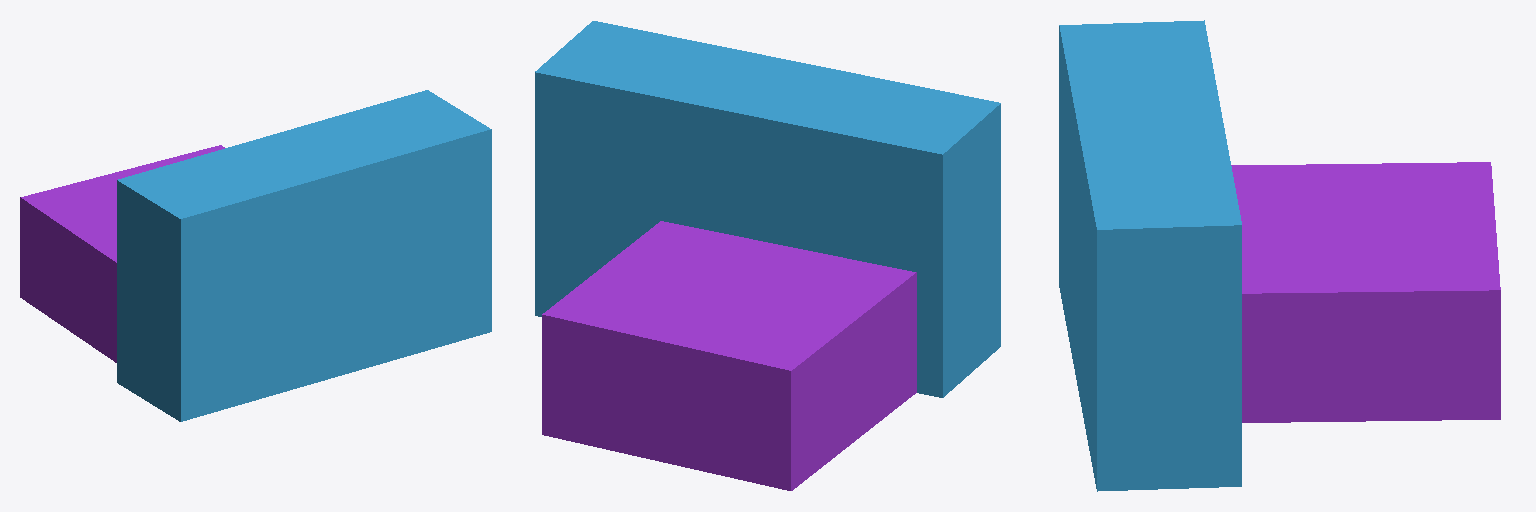
The robot description file, URDF, robot "multi_boxes":
<?xml version="1.0"?>
<robot name="multi_boxes">
  <!-- Note: Platform/ground boxes with large coordinates (-10 or 10) have been filtered out -->
  <link name="world"/>
  <!-- Box 1 -->
  <link name="multi_boxes_link">
    <visual>
      <origin xyz="0 0 0" rpy="0 0 0"/>
      <geometry>
        <mesh filename="box_models/box1.obj" scale="0.7415730337078652 0.7415730337078652 0.7415730337078652"/>
      </geometry>
      <material name="box1_material">
        <color rgba="0.3 0.7 0.9 0.5"/>
      </material>
    </visual>

    <collision name="multi_boxes">
      <origin xyz="0 0 0" rpy="0 0 0"/>
      <geometry>
        <mesh filename="box_models/box1.obj" scale="0.7415730337078652 0.7415730337078652 0.7415730337078652"/>
      </geometry>
    </collision>

    <inertial>
      <origin xyz="0 0 0" rpy="0 0 0"/>
      <mass value="33.33"/>
      <inertia ixx="33.33" ixy="0.0" ixz="0.0" iyy="33.33" iyz="0.0" izz="33.33"/>
    </inertial>
  </link>

  <!-- Box 2 -->
  <link name="box2_link">
    <visual>
      <origin xyz="0 0 0" rpy="0 0 0"/>
      <geometry>
        <mesh filename="box_models/box2.obj" scale="0.7415730337078652 0.7415730337078652 0.7415730337078652"/>
      </geometry>
      <material name="box2_material">
        <color rgba="0.7 0.3 0.9 0.5"/>
      </material>
    </visual>

    <collision name="box2">
      <origin xyz="0 0 0" rpy="0 0 0"/>
      <geometry>
        <mesh filename="box_models/box2.obj" scale="0.7415730337078652 0.7415730337078652 0.7415730337078652"/>
      </geometry>
    </collision>

    <inertial>
      <origin xyz="0 0 0" rpy="0 0 0"/>
      <mass value="33.33"/>
      <inertia ixx="33.33" ixy="0.0" ixz="0.0" iyy="33.33" iyz="0.0" izz="33.33"/>
    </inertial>
  </link>

  <!-- Fixed joint to world for Box 1 -->
  <joint name="world_to_multi_boxes" type="fixed">
    <parent link="world"/>
    <child link="multi_boxes_link"/>
    <origin xyz="0 0 0" rpy="0 0 0"/>
  </joint>

  <!-- Fixed joint to world for Box 2 -->
  <joint name="world_to_box2" type="fixed">
    <parent link="world"/>
    <child link="box2_link"/>
    <origin xyz="0 0 0" rpy="0 0 0"/>
  </joint>

</robot>

--- Facts derived from the render (not from the file) ---
3 views of the same robot in one strip: view 1: azimuth 30°, elevation 25°; view 2: azimuth 150°, elevation 25°; view 3: azimuth 270°, elevation 25° (orthographic).
Model multi_boxes with 3 links and 2 joints (2 fixed), rooted at world, posed every joint at zero.
Visible links, largest first — view 1: multi_boxes_link, box2_link; view 2: multi_boxes_link, box2_link; view 3: multi_boxes_link, box2_link.
Link boxes in pixels (box(x1,y1,x2,y2)): multi_boxes_link: box(117, 90, 491, 421); box2_link: box(20, 145, 224, 362); multi_boxes_link: box(535, 21, 1000, 397); box2_link: box(542, 221, 916, 490); multi_boxes_link: box(1059, 20, 1241, 491); box2_link: box(1231, 162, 1500, 422).
Bounding box of the posed robot: 1.21 × 1.08 × 0.7045 m (x, y, z).
2 mesh visuals loaded from 2 distinct referenced files (2 OBJ).
